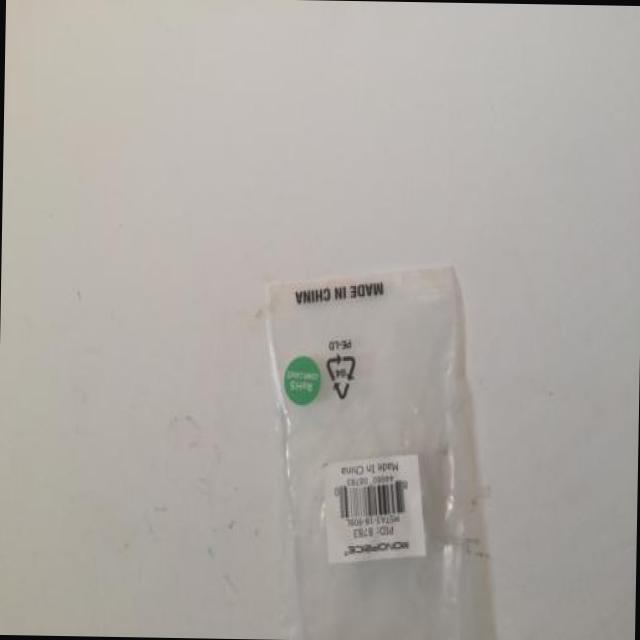Trash: (251, 250, 501, 640)
